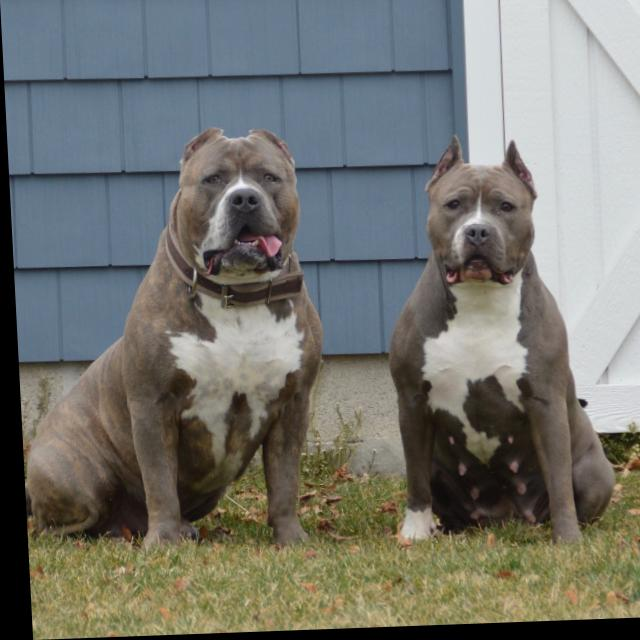am_pit_bull_terrier: (7, 126, 329, 559), (375, 135, 614, 555)
